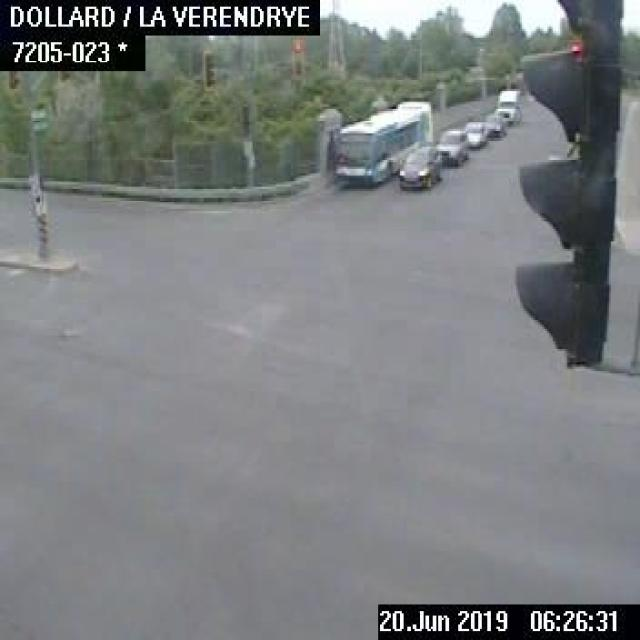bus: (329, 95, 433, 185)
vehicle: (396, 142, 439, 188), (436, 126, 466, 167), (494, 85, 522, 125), (464, 118, 486, 148), (484, 112, 505, 140)
